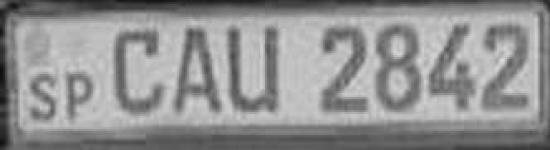2: (318, 17, 373, 120), (478, 16, 534, 116)
4: (425, 18, 479, 118)
8: (374, 19, 426, 114)
A: (170, 21, 223, 120)
C: (108, 22, 169, 121)
P: (64, 70, 96, 124)
S: (26, 68, 62, 124)
U: (222, 20, 286, 121)
